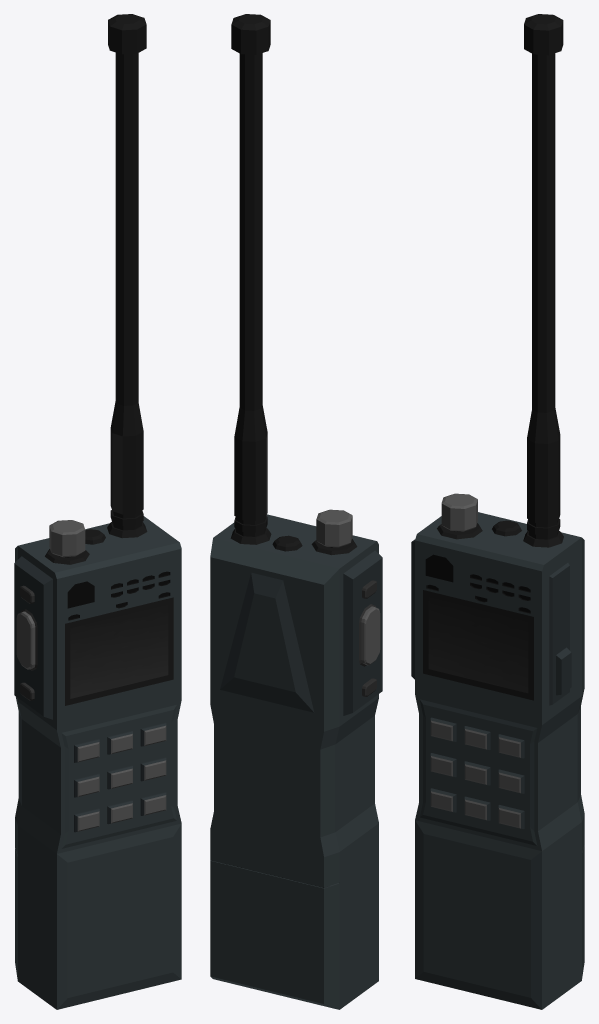
Rendered from FieldRadioV1.glb.
3 renders of one model, left to right at view 1: azimuth 30°, elevation 25°; view 2: azimuth 150°, elevation 25°; view 3: azimuth 330°, elevation 25°, orthographic.
Visible parts, largest first — view 1: FieldRadioV1; view 2: FieldRadioV1; view 3: FieldRadioV1.
Part boxes in pixels (left/top/right/bottom): FieldRadioV1: left=14, top=14, right=181, bottom=1009; FieldRadioV1: left=210, top=14, right=382, bottom=1009; FieldRadioV1: left=411, top=14, right=584, bottom=1009.
Size of the model in its own units: 0.0703 by 0.4344 by 0.0445.
1 material, 1 textured.
